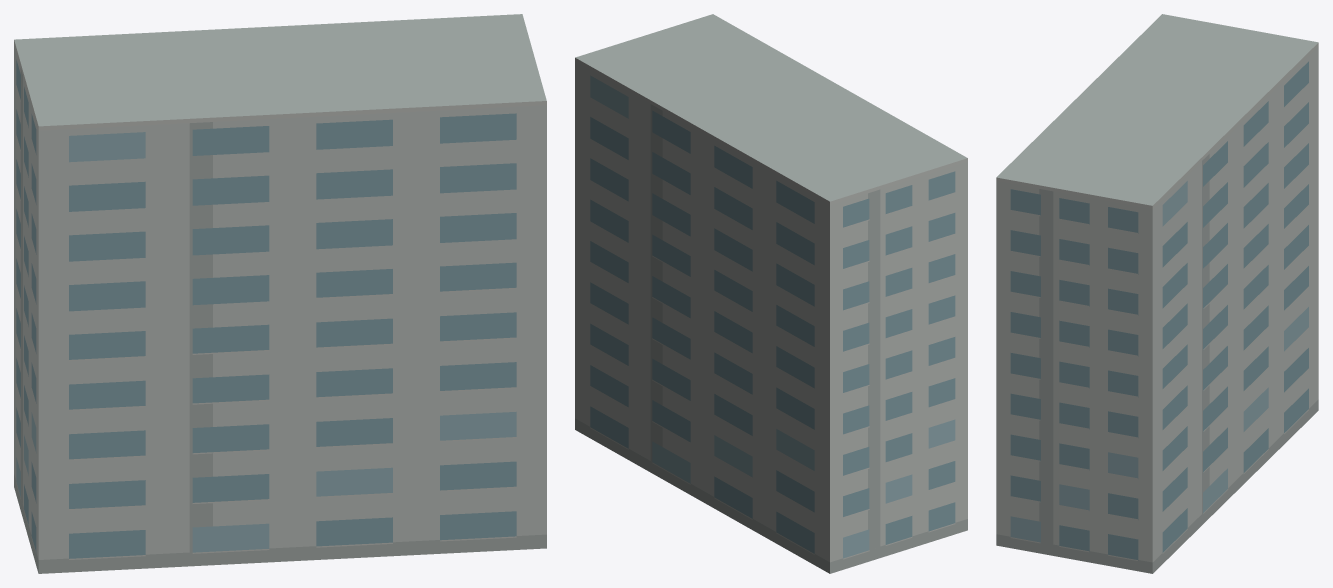
The model's file is residential-94e52b79-8d39-4d97-a749-97ec75409e0e.glb.
The picture shows the model from 3 angles, left to right: view 1: azimuth 30°, elevation 25°; view 2: azimuth 150°, elevation 25°; view 3: azimuth 270°, elevation 25°; orthographic projection. The views are drawn at different scales.
Visible parts, largest first — view 1: residential-94e52b79-8d39-4d97-a749-97ec75409e0e.tmp; view 2: residential-94e52b79-8d39-4d97-a749-97ec75409e0e.tmp; view 3: residential-94e52b79-8d39-4d97-a749-97ec75409e0e.tmp.
Part boxes in pixels (left/top/right/bottom): residential-94e52b79-8d39-4d97-a749-97ec75409e0e.tmp: left=14, top=14, right=546, bottom=573; residential-94e52b79-8d39-4d97-a749-97ec75409e0e.tmp: left=575, top=14, right=967, bottom=573; residential-94e52b79-8d39-4d97-a749-97ec75409e0e.tmp: left=996, top=14, right=1318, bottom=573.
Bounding box in the file's own units: 27.96 × 25 × 19.86.
